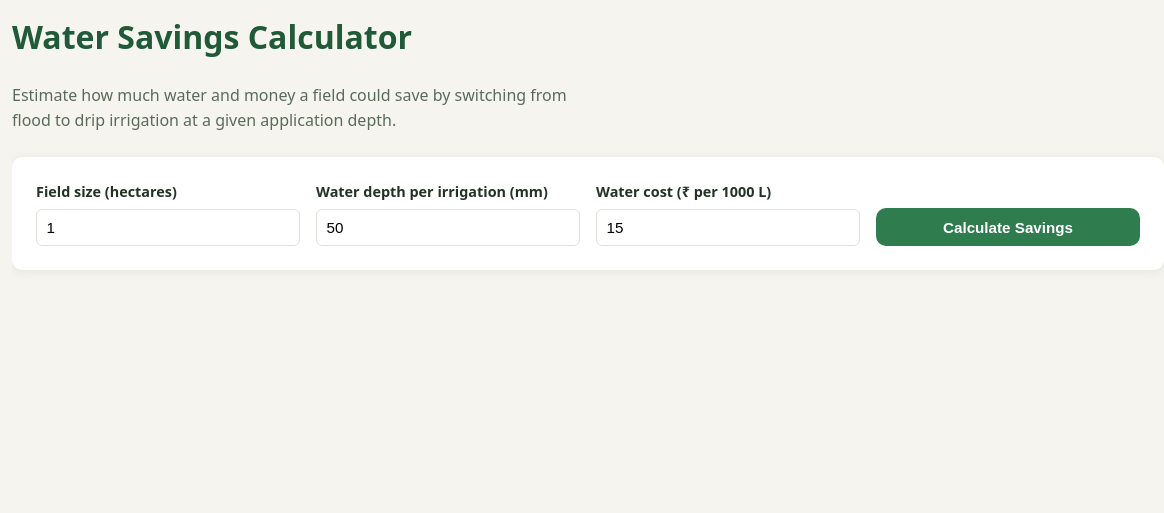
Test: WaterCalculator page › renders the form and shows estimated savings after submit
The image size is (1164, 513).
Check: the heading "Water Savings Calculator" is shown, box [12,15,412,58]
Click the button "Calculate Savings": click(1008, 227) [876,208,1140,246]
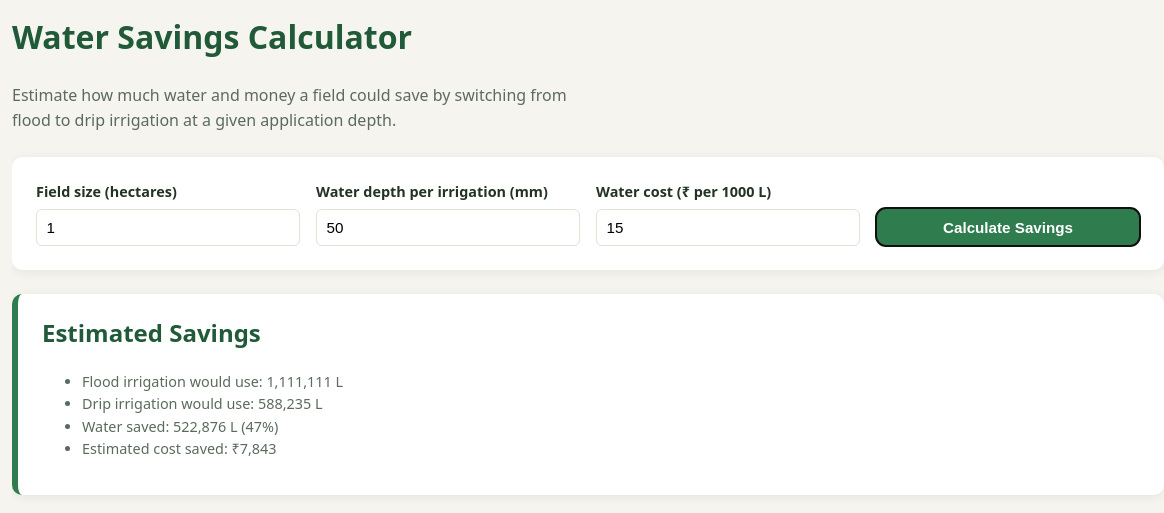
Check: the heading "Estimated Savings" is shown, box [42,316,261,349]
Check: the list item "Water saved: 522,876 L (47%)" is shown, box [82,417,278,436]
